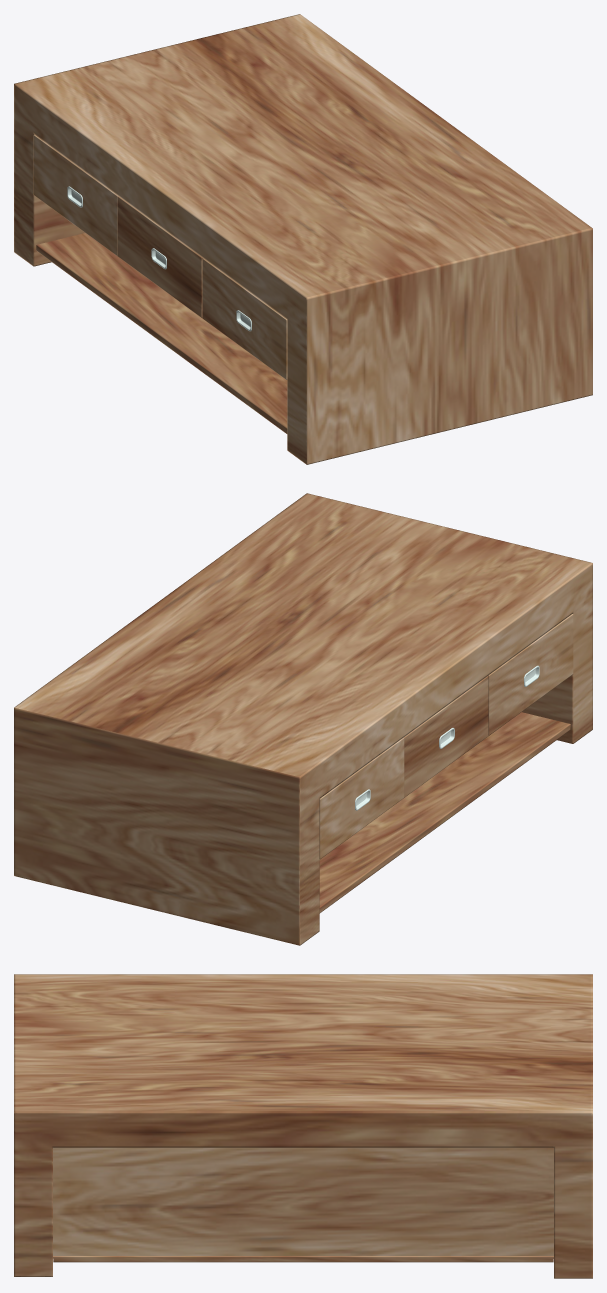
File: drawer_03.obj
3 renders of one model, top to bottom at view 1: azimuth 30°, elevation 25°; view 2: azimuth 150°, elevation 25°; view 3: azimuth 270°, elevation 25°, orthographic.
Visible parts, largest first — view 1: drawer_03; view 2: drawer_03; view 3: drawer_03.
Boxes of the visible parts, <box> form: drawer_03: <box>14,14,592,464</box>; drawer_03: <box>14,493,592,945</box>; drawer_03: <box>14,974,592,1278</box>.
Bounding box in the file's own units: 2.71 × 1.52 × 4.78.
